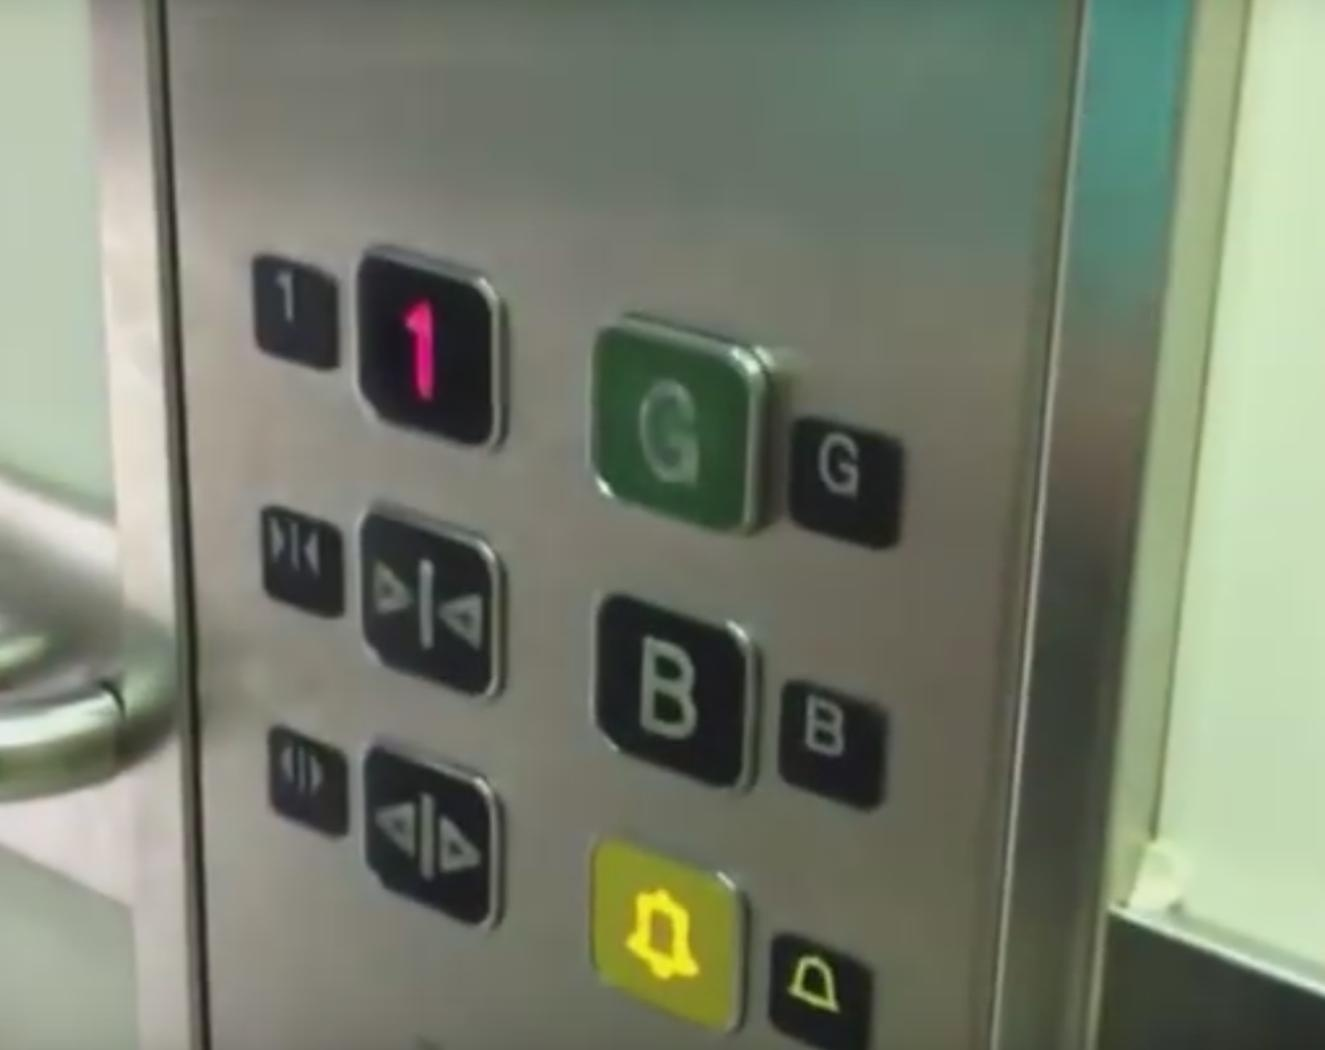1: (344, 231, 523, 470), (236, 236, 351, 386)
B: (583, 581, 771, 801), (767, 668, 900, 818)
G: (575, 299, 788, 547), (780, 410, 913, 561)
alarm: (573, 823, 761, 1042), (764, 923, 878, 1050)
close: (350, 489, 521, 712), (243, 489, 356, 632)
open: (356, 730, 521, 946), (250, 714, 359, 848)
